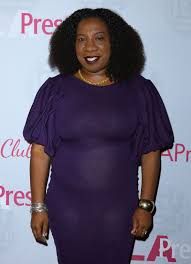black_female: (55, 4, 135, 84)
